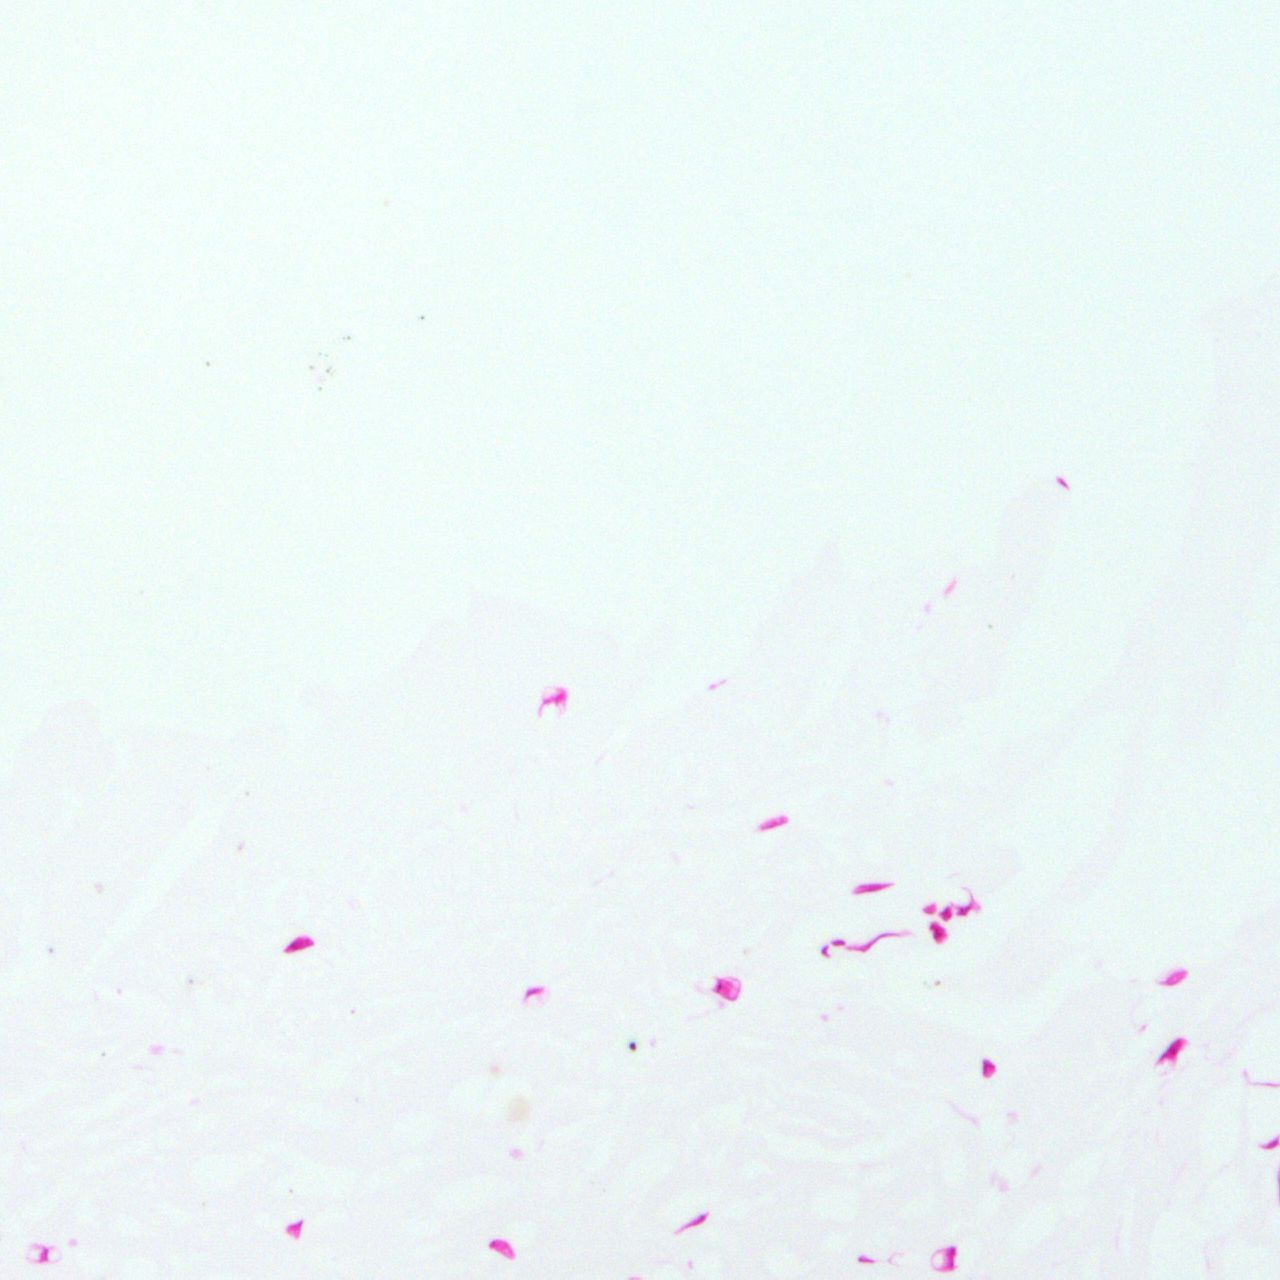dust: (629, 1041, 636, 1050)
nucleus-FG: (1158, 1034, 1189, 1069), (712, 974, 743, 1003), (281, 932, 314, 954), (928, 919, 948, 942), (942, 1245, 956, 1272), (938, 905, 955, 922), (1262, 1136, 1280, 1152), (983, 1058, 994, 1077), (858, 1257, 874, 1262), (832, 940, 844, 945)
